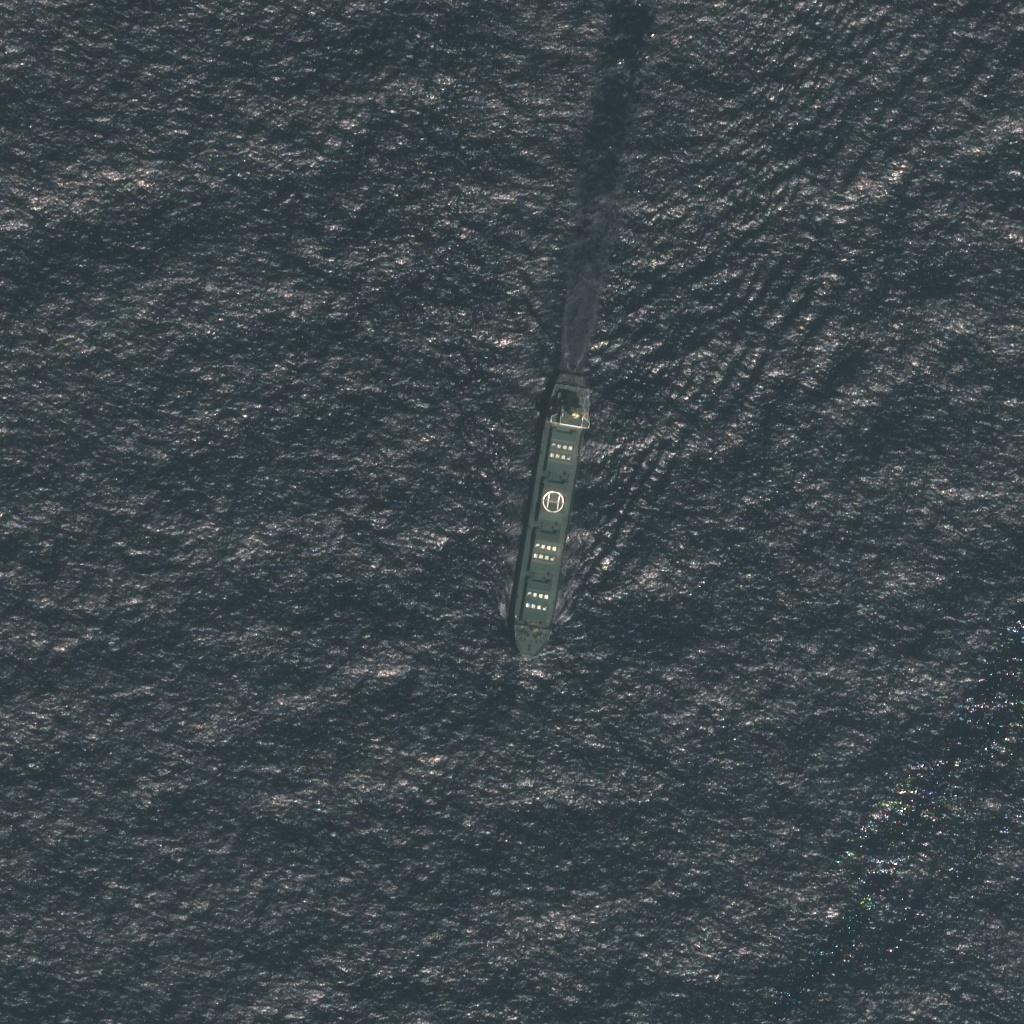ship: (513, 368, 597, 663)
